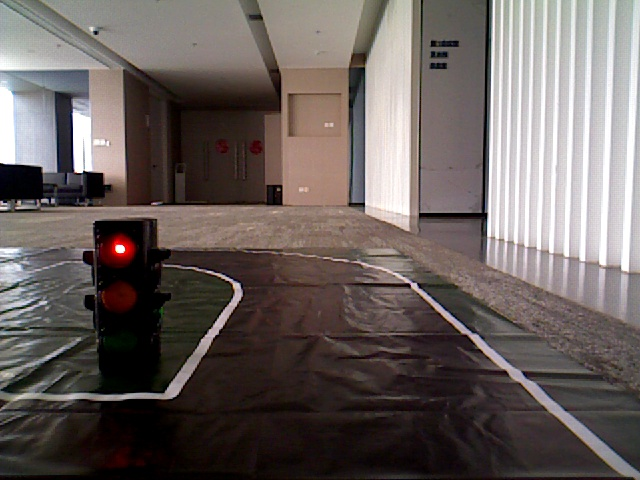red: (93, 226, 156, 369)
